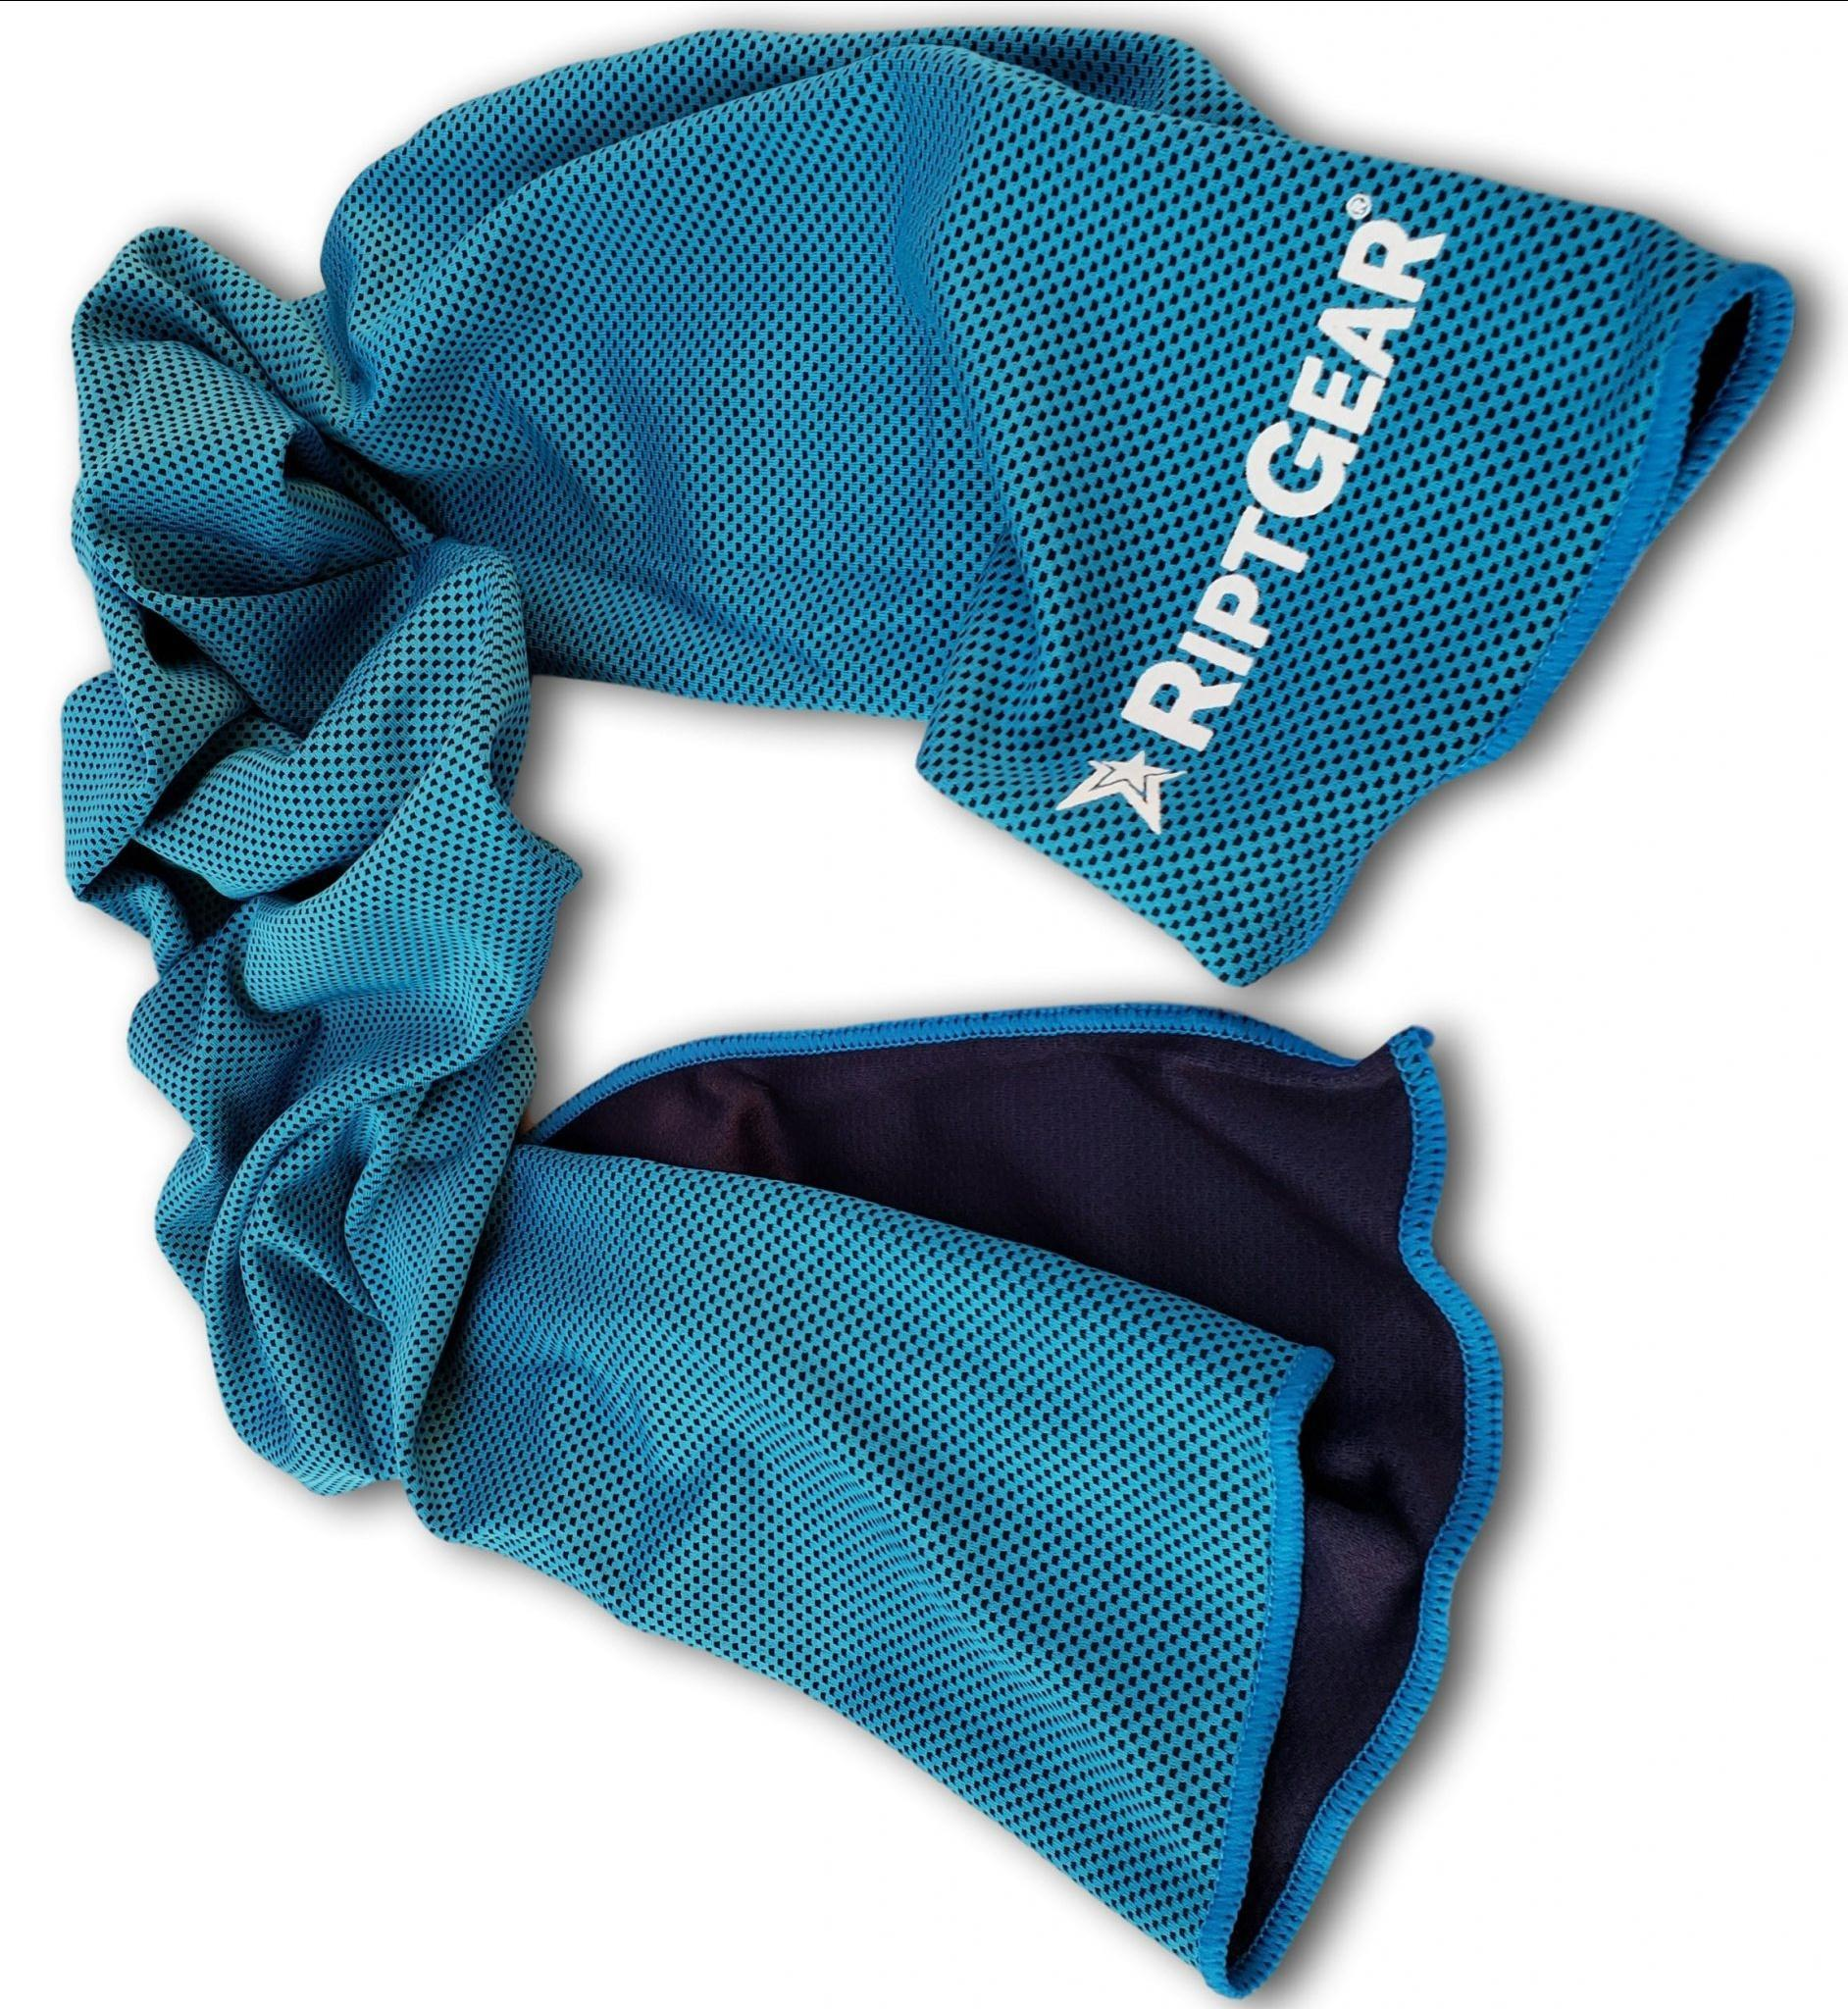towel: (54, 0, 1848, 1032)
